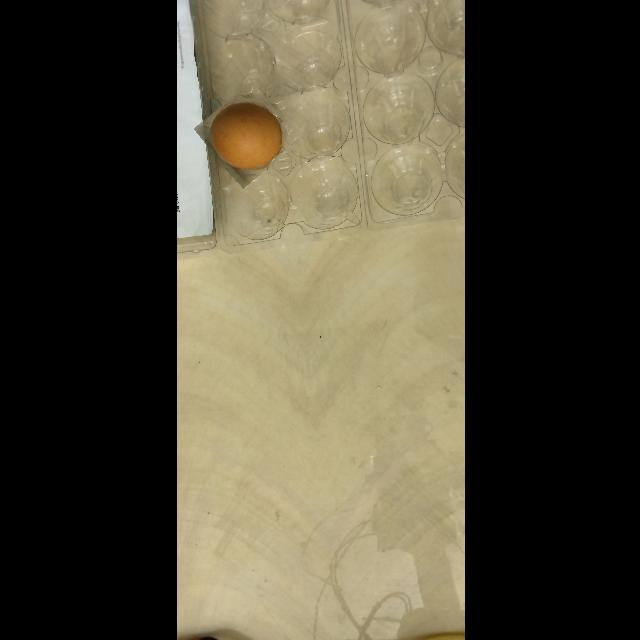Egg: (200, 88, 292, 182)
